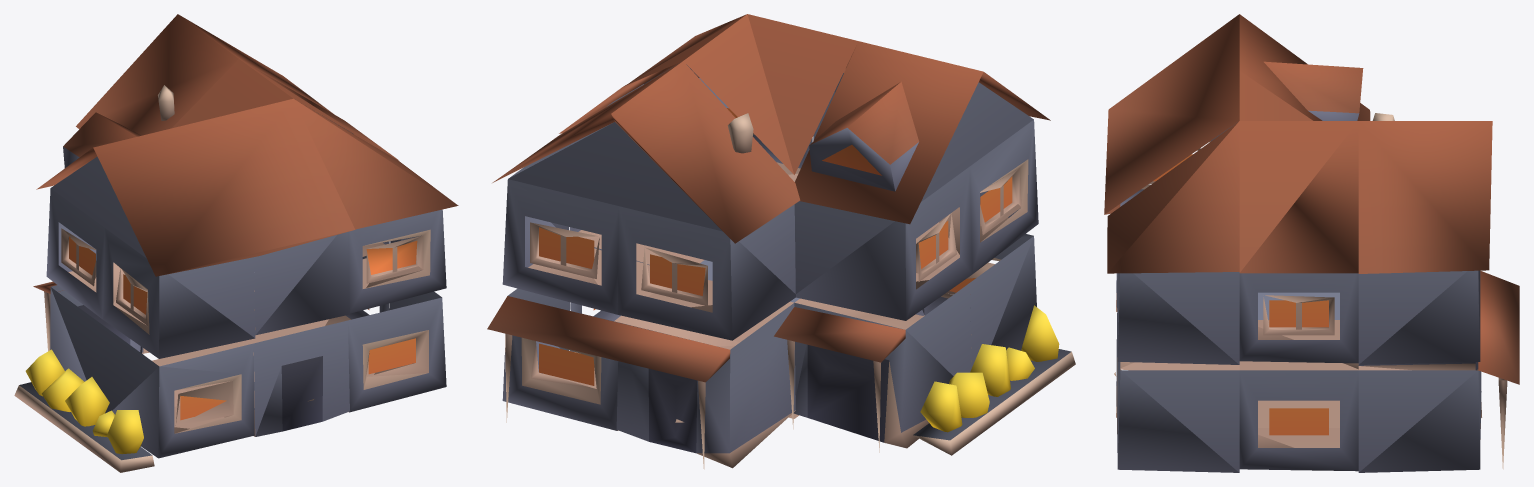
The model's file is casa_f.fbx.
3 views of the same model, side by side, from view 1: azimuth 30°, elevation 25°; view 2: azimuth 150°, elevation 25°; view 3: azimuth 270°, elevation 25° (orthographic). The views are drawn at different scales.
Visible parts, largest first — view 1: casa_f; view 2: casa_f; view 3: casa_f.
Part boxes in pixels (<box>): casa_f: <box>14,14,458,472</box>; casa_f: <box>487,14,1075,469</box>; casa_f: <box>1104,14,1519,472</box>.
Bounding box in the file's own units: 1.42 × 1.14 × 1.4.
